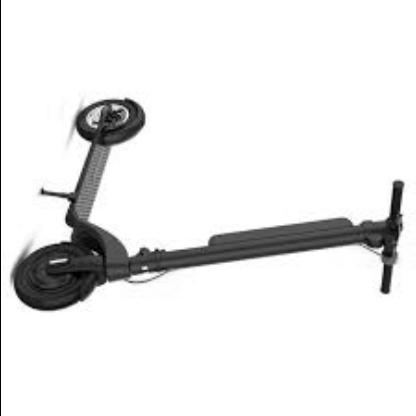bike: (13, 98, 410, 312)
